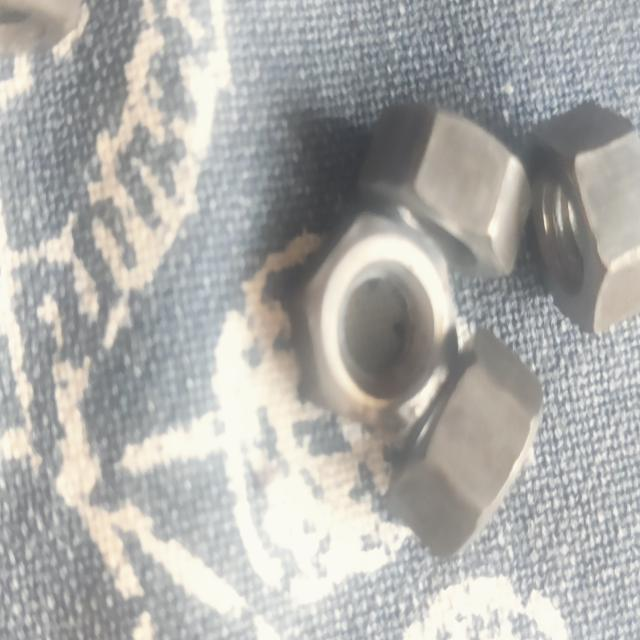disinfected nut: (388, 330, 542, 557), (298, 213, 455, 430), (360, 103, 530, 277), (530, 103, 640, 333)
